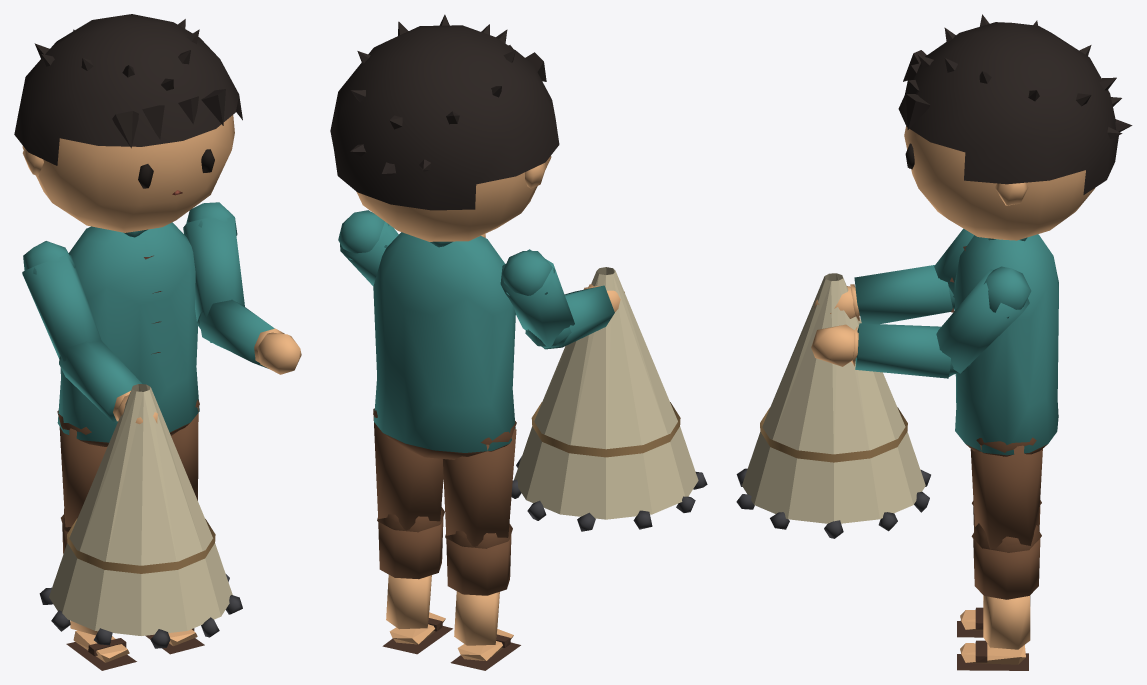
File: central_net_fisher.glb
3 renders of one model, left to right at view 1: azimuth 30°, elevation 25°; view 2: azimuth 150°, elevation 25°; view 3: azimuth 270°, elevation 25°, orthographic.
Parts seen in each view (by area): view 1: head, prop_cast_net, body, arm_R, arm_L, forearm_L, forearm_R, leg_R, shin_R, leg_L, shin_L; view 2: head, body, prop_cast_net, shin_L, shin_R, leg_R, leg_L, arm_R, arm_L, forearm_R; view 3: head, prop_cast_net, body, shin_L, leg_L, forearm_L, arm_L, forearm_R, arm_R, shin_R.
Part boxes in pixels (left/top/right/bottom): head: left=14, top=14, right=242, bottom=232; prop_cast_net: left=39, top=384, right=242, bottom=648; body: left=57, top=222, right=199, bottom=446; arm_R: left=22, top=241, right=101, bottom=362; arm_L: left=183, top=202, right=244, bottom=342; forearm_L: left=199, top=299, right=301, bottom=374; forearm_R: left=59, top=341, right=157, bottom=424; leg_R: left=57, top=410, right=107, bottom=531; shin_R: left=62, top=509, right=136, bottom=670; leg_L: left=171, top=399, right=199, bottom=500; shin_L: left=145, top=628, right=204, bottom=654; head: left=330, top=14, right=559, bottom=241; body: left=373, top=232, right=515, bottom=459; prop_cast_net: left=511, top=267, right=707, bottom=531; shin_L: left=378, top=506, right=452, bottom=654; shin_R: left=446, top=523, right=520, bottom=670; leg_R: left=443, top=421, right=516, bottom=548; leg_L: left=373, top=408, right=444, bottom=532; arm_R: left=500, top=249, right=574, bottom=347; arm_L: left=338, top=210, right=398, bottom=286; forearm_R: left=528, top=284, right=624, bottom=349; head: left=898, top=14, right=1132, bottom=240; prop_cast_net: left=736, top=273, right=930, bottom=538; body: left=950, top=234, right=1058, bottom=456; shin_L: left=957, top=523, right=1040, bottom=670; leg_L: left=970, top=437, right=1042, bottom=552; forearm_L: left=811, top=323, right=969, bottom=378; arm_L: left=936, top=266, right=1031, bottom=374; forearm_R: left=813, top=265, right=954, bottom=324; arm_R: left=934, top=228, right=973, bottom=302; shin_R: left=957, top=505, right=1040, bottom=637.
Bounding box in the file's own units: 0.6691 × 1.47 × 0.8619.
